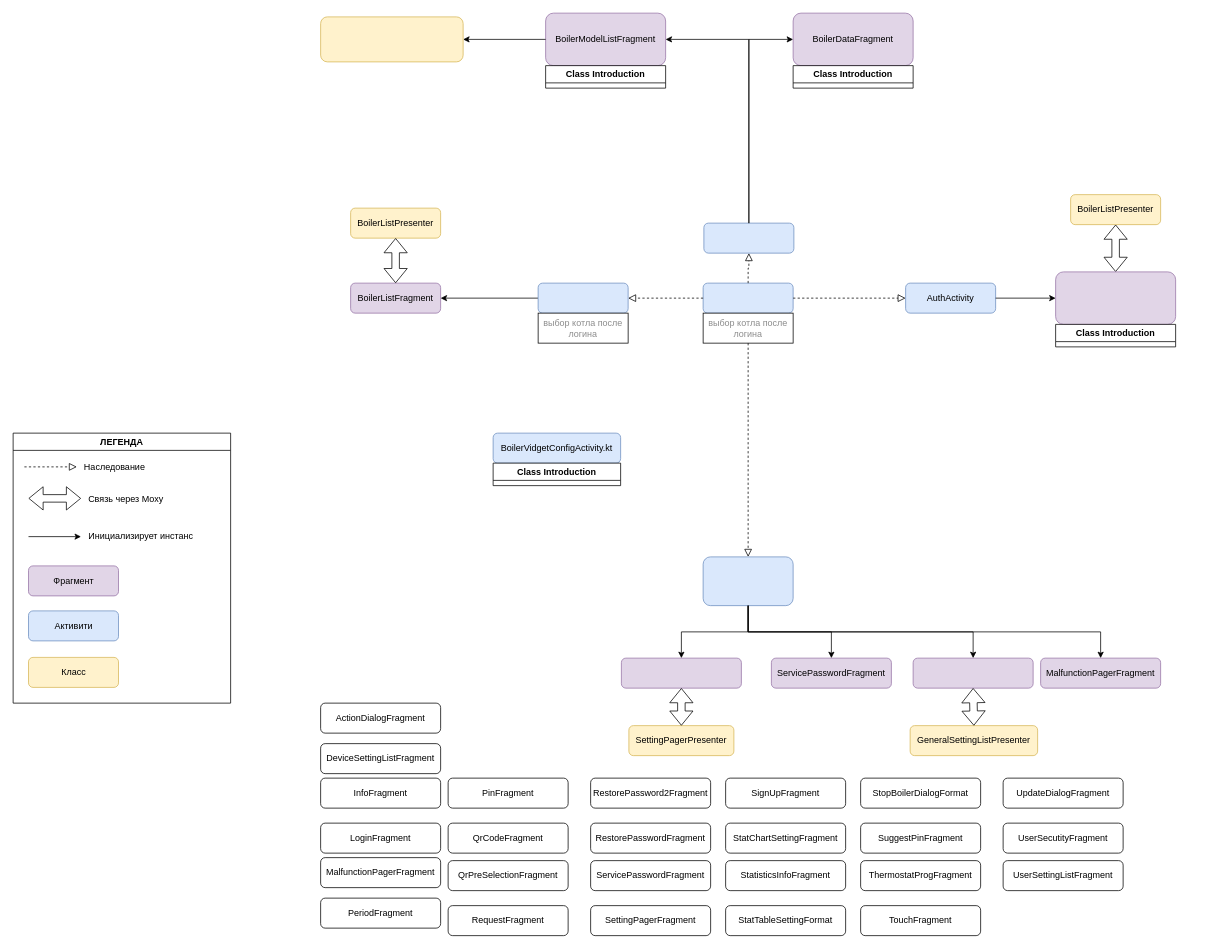
The diagram is 1219 pixels wide and 949 high, and some of its shapes have lost their labels. The shapes that lost their labels are listed below. From the top down, each one's centre as x and y in pixels, then its label:
At [391,39]: "BoilerModelRecyclerViewAdapter".
At [748,237]: "AddBoilerActivity".
At [582,297]: "Basic Activity".
At [747,297]: "abstract BaseActivity".
At [1115,297]: "MainFragment extends MvpAppCpmpatFragment".
At [747,581]: "SettingActivity implements ToolbarManager".
At [681,672]: "SettingFragment".
At [972,672]: "GeneralSettingListFragment".
